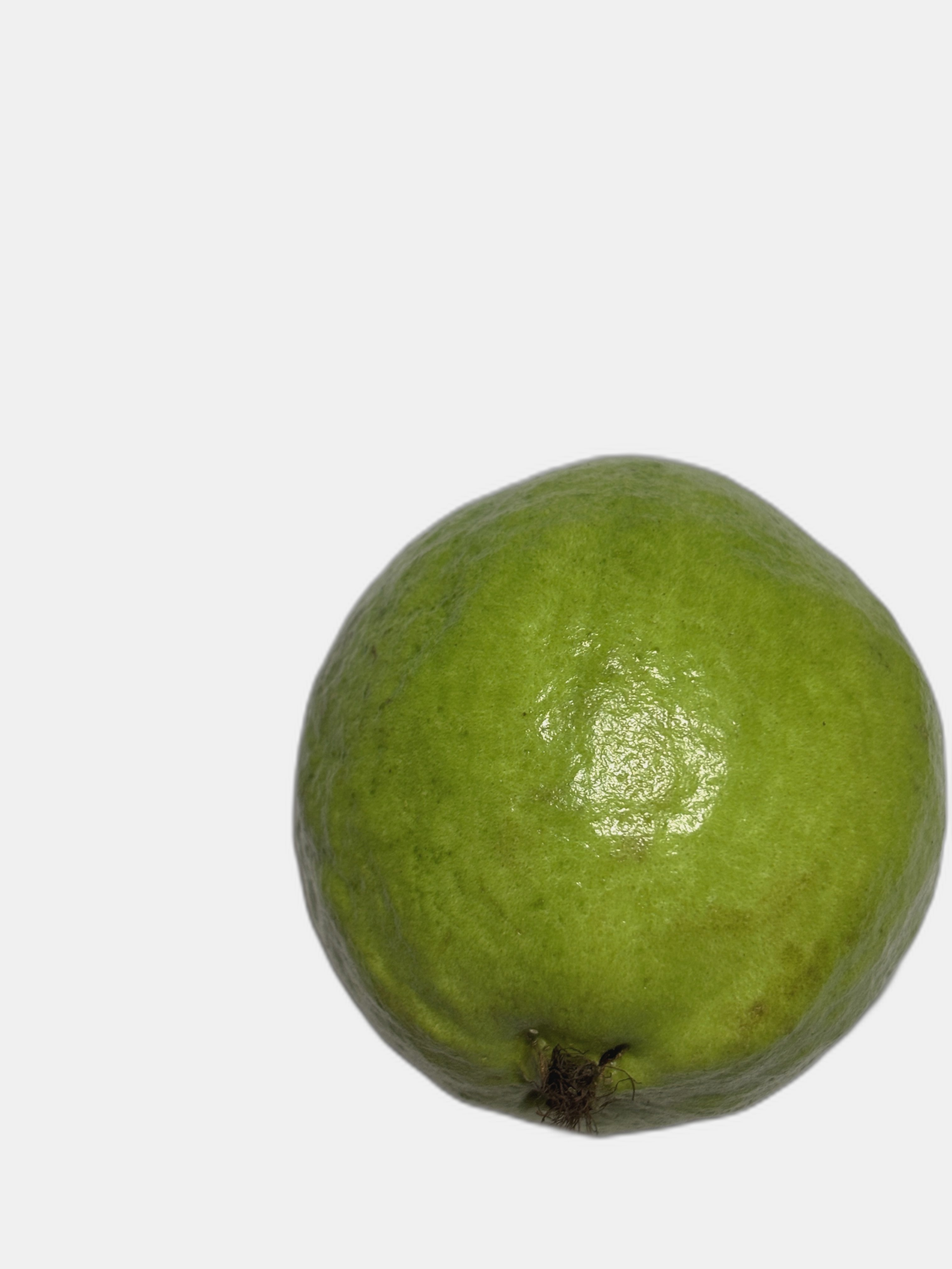guava: (156, 222, 820, 1090)
